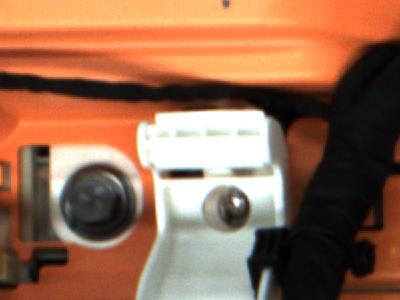nut_b: (57, 162, 138, 245)
